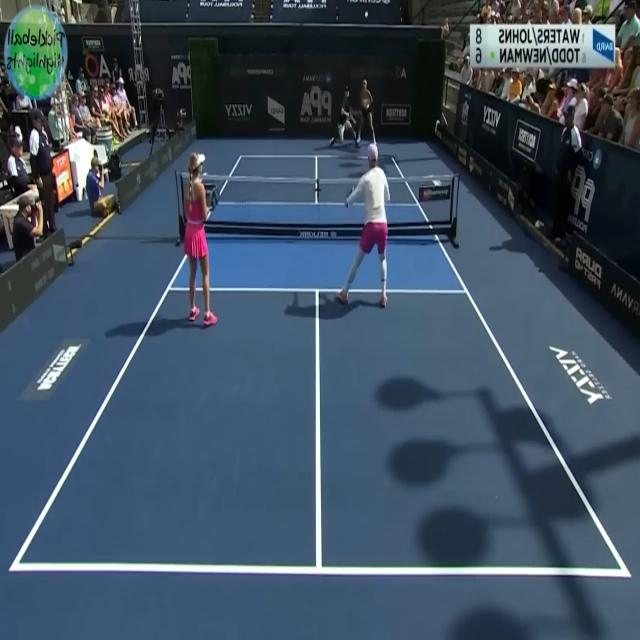Pickleball: (363, 7, 370, 20)
